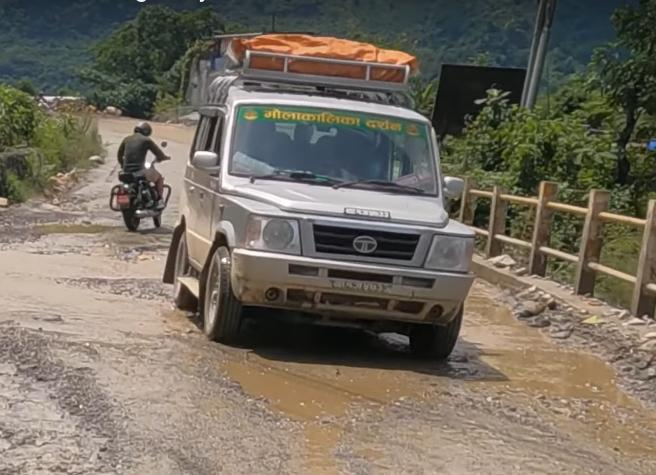SUV: (169, 41, 476, 359)
bike: (107, 137, 174, 235)
